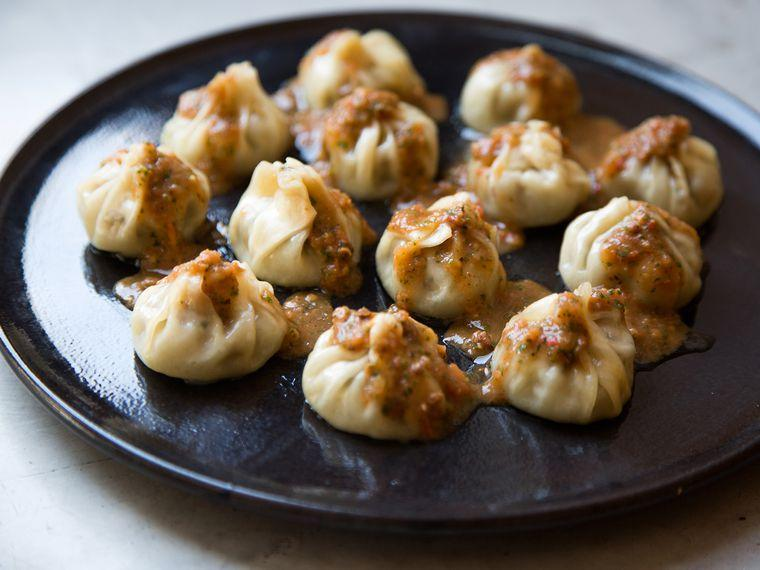momos: (303, 307, 481, 439), (131, 249, 288, 383), (488, 284, 635, 424), (229, 157, 374, 295), (160, 61, 292, 194), (558, 196, 702, 309), (376, 193, 505, 318), (77, 142, 211, 257), (597, 116, 723, 226), (297, 30, 447, 119), (468, 120, 591, 227), (321, 88, 438, 200), (460, 43, 582, 131), (211, 85, 215, 96)
